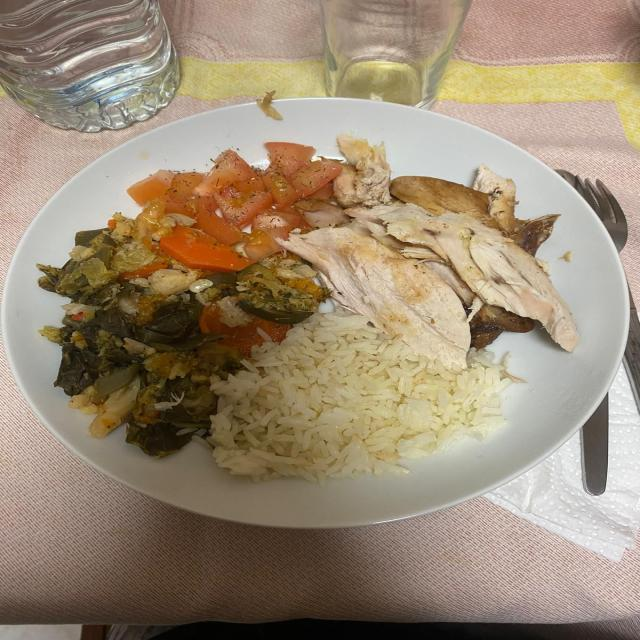fork: (556, 170, 627, 253), (580, 394, 609, 496), (623, 293, 639, 414)
plate: (2, 98, 629, 528)
rice: (209, 310, 519, 481)
tomato: (127, 142, 345, 260)
turkey steak: (279, 136, 579, 367)
vegetables: (37, 199, 327, 457)
water cup: (321, 0, 471, 109)
